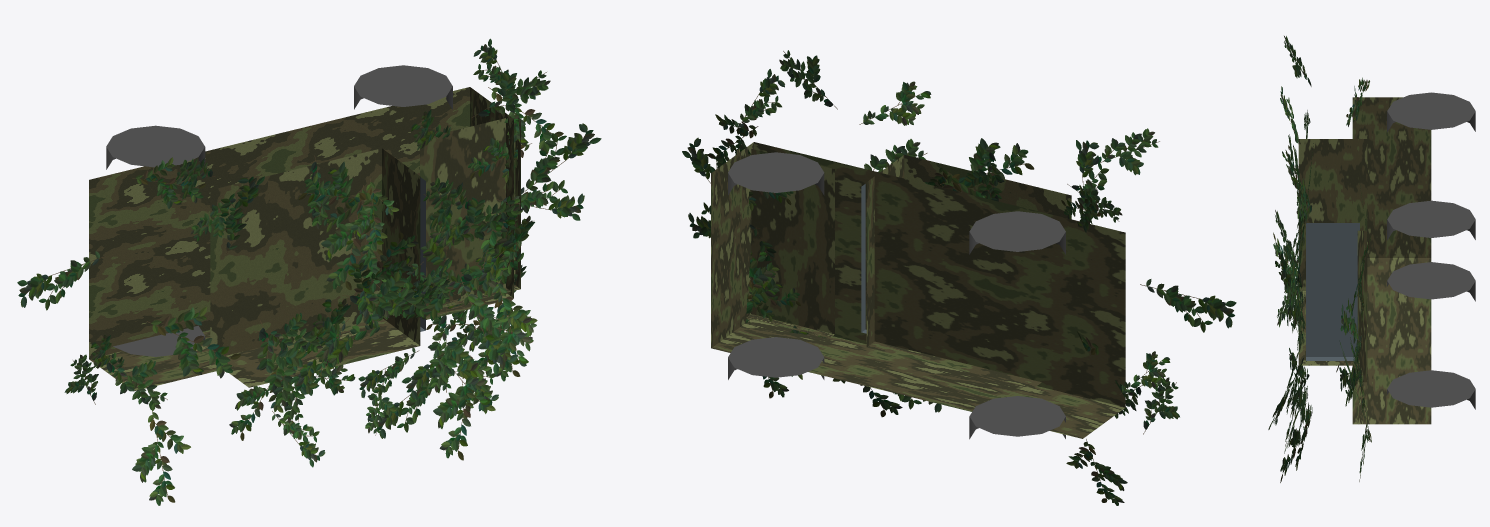
The model's file is jeep_camo_net.glb.
The picture shows the model from 3 angles, left to right: view 1: azimuth 30°, elevation 25°; view 2: azimuth 150°, elevation 25°; view 3: azimuth 270°, elevation 25°; orthographic projection. The views are drawn at different scales.
Size of the model in its own units: 6.36 by 4.18 by 2.11.
Materials: 4 (2 with a texture image).
